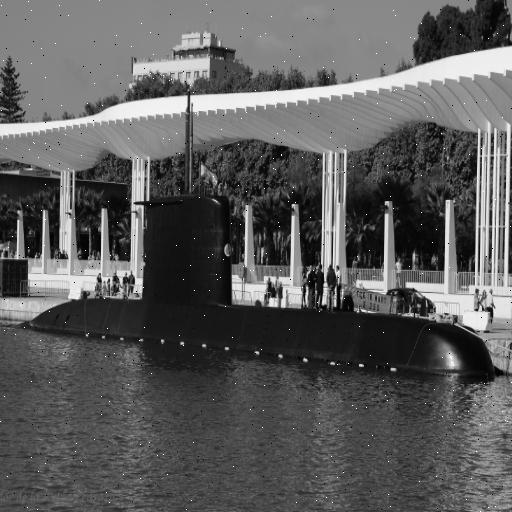submarine: (18, 195, 498, 381)
